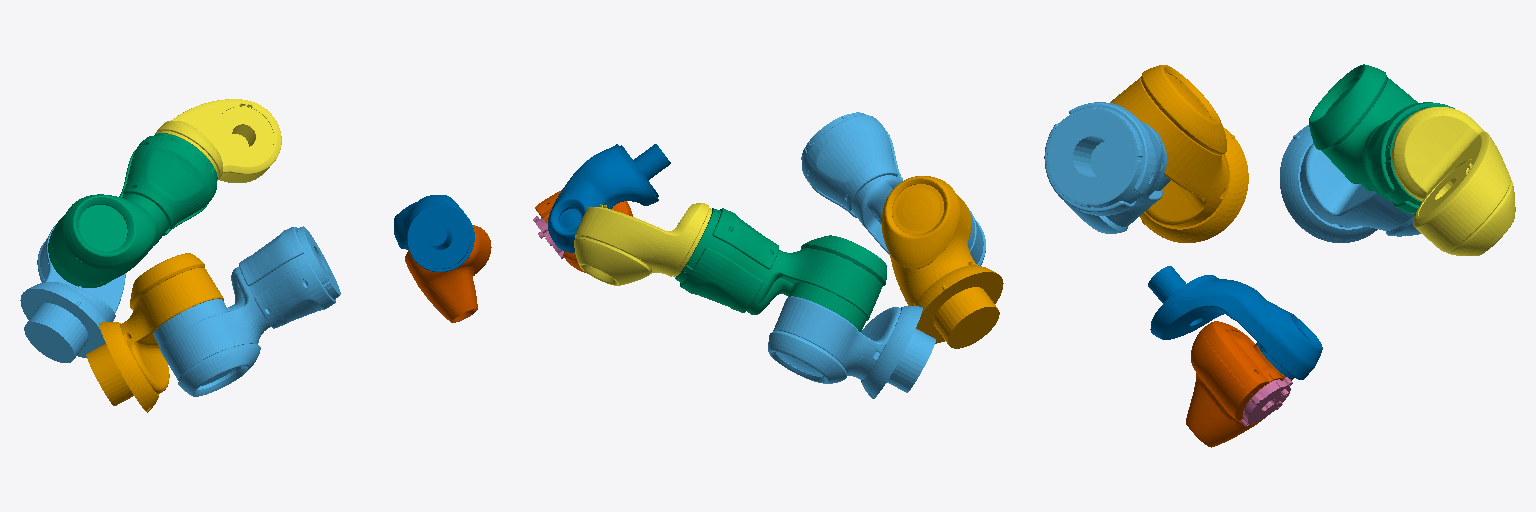
URDF robot description (IRB14000_Yumi):
<?xml version="1.0" ?>
<robot name="IRB14000_Yumi">

<link name="base_link">
  <inertial>
    <origin xyz="-0.1806083300371626 -3.533146342719389e-05 0.16501432096968796" rpy="0 0 0"/>
    <mass value="355.07112469493865"/>
    <inertia ixx="13.237211" iyy="14.852513" izz="6.557715" ixy="-0.00171" iyz="-0.012269" ixz="-0.102455"/>
  </inertial>
  <visual>
    <origin xyz="0 0 0" rpy="0 0 0"/>
    <geometry>
      <mesh filename="meshes/base_link.stl" scale="0.001 0.001 0.001"/>
    </geometry>
  </visual>
  <collision>
    <origin xyz="0 0 0" rpy="0 0 0"/>
    <geometry>
      <mesh filename="meshes/base_link.stl" scale="0.001 0.001 0.001"/>
    </geometry>
  </collision>
</link>

<link name="IRB14000_Link1_L_v1_1">
  <inertial>
    <origin xyz="0.04073333496198922 0.040935345541061985 0.015261260614221506" rpy="0 0 0"/>
    <mass value="7.563188104200824"/>
    <inertia ixx="0.019728" iyy="0.015934" izz="0.025359" ixy="-0.007851" iyz="-0.004141" ixz="-0.002338"/>
  </inertial>
  <visual>
    <origin xyz="-0.051106 -0.071479 -0.413506" rpy="0 0 0"/>
    <geometry>
      <mesh filename="meshes/IRB14000_Link1_L_v1_1.stl" scale="0.001 0.001 0.001"/>
    </geometry>
  </visual>
  <collision>
    <origin xyz="-0.051106 -0.071479 -0.413506" rpy="0 0 0"/>
    <geometry>
      <mesh filename="meshes/IRB14000_Link1_L_v1_1.stl" scale="0.001 0.001 0.001"/>
    </geometry>
  </collision>
</link>

<link name="IRB14000_Link2_L_v1_1">
  <inertial>
    <origin xyz="0.0596729752148423 -0.007882861134115904 0.03919033075530104" rpy="0 0 0"/>
    <mass value="11.070799725042463"/>
    <inertia ixx="0.020709" iyy="0.051591" izz="0.055916" ixy="-0.013939" iyz="-0.002565" ixz="-0.007311"/>
  </inertial>
  <visual>
    <origin xyz="-0.119234 -0.133836 -0.46976" rpy="0 0 0"/>
    <geometry>
      <mesh filename="meshes/IRB14000_Link2_L_v1_1.stl" scale="0.001 0.001 0.001"/>
    </geometry>
  </visual>
  <collision>
    <origin xyz="-0.119234 -0.133836 -0.46976" rpy="0 0 0"/>
    <geometry>
      <mesh filename="meshes/IRB14000_Link2_L_v1_1.stl" scale="0.001 0.001 0.001"/>
    </geometry>
  </collision>
</link>

<link name="IRB14000_Link3_L_v1_1">
  <inertial>
    <origin xyz="0.05564804075747504 0.023708363033178914 -0.0061156014923368085" rpy="0 0 0"/>
    <mass value="5.579966748579002"/>
    <inertia ixx="0.006105" iyy="0.013925" izz="0.014722" ixy="-0.002356" iyz="-0.000158" ixz="0.001632"/>
  </inertial>
  <visual>
    <origin xyz="-0.275739 -0.165887 -0.543198" rpy="0 0 0"/>
    <geometry>
      <mesh filename="meshes/IRB14000_Link3_L_v1_1.stl" scale="0.001 0.001 0.001"/>
    </geometry>
  </visual>
  <collision>
    <origin xyz="-0.275739 -0.165887 -0.543198" rpy="0 0 0"/>
    <geometry>
      <mesh filename="meshes/IRB14000_Link3_L_v1_1.stl" scale="0.001 0.001 0.001"/>
    </geometry>
  </collision>
</link>

<link name="IRB14000_Link4_L_v1_1">
  <inertial>
    <origin xyz="0.04754075136522001 -0.04572861064128683 -0.0007970276750837169" rpy="0 0 0"/>
    <mass value="9.26921603729842"/>
    <inertia ixx="0.022095" iyy="0.039944" izz="0.03382" ixy="0.008099" iyz="-0.005273" ixz="0.013896"/>
  </inertial>
  <visual>
    <origin xyz="-0.364071 -0.175484 -0.550654" rpy="0 0 0"/>
    <geometry>
      <mesh filename="meshes/IRB14000_Link4_L_v1_1.stl" scale="0.001 0.001 0.001"/>
    </geometry>
  </visual>
  <collision>
    <origin xyz="-0.364071 -0.175484 -0.550654" rpy="0 0 0"/>
    <geometry>
      <mesh filename="meshes/IRB14000_Link4_L_v1_1.stl" scale="0.001 0.001 0.001"/>
    </geometry>
  </collision>
</link>

<link name="IRB14000_Link5_L_v1_1">
  <inertial>
    <origin xyz="0.023112773812127285 -0.011245840587332231 -0.04761625259631325" rpy="0 0 0"/>
    <mass value="2.695952167724137"/>
    <inertia ixx="0.005888" iyy="0.006149" izz="0.002687" ixy="0.000386" iyz="-0.001411" ixz="0.001593"/>
  </inertial>
  <visual>
    <origin xyz="-0.489888 -0.079615 -0.488717" rpy="0 0 0"/>
    <geometry>
      <mesh filename="meshes/IRB14000_Link5_L_v1_1.stl" scale="0.001 0.001 0.001"/>
    </geometry>
  </visual>
  <collision>
    <origin xyz="-0.489888 -0.079615 -0.488717" rpy="0 0 0"/>
    <geometry>
      <mesh filename="meshes/IRB14000_Link5_L_v1_1.stl" scale="0.001 0.001 0.001"/>
    </geometry>
  </collision>
</link>

<link name="IRB14000_Link6_L_v1_1">
  <inertial>
    <origin xyz="-0.004491641394148149 -0.031703355476269665 0.05361645129751996" rpy="0 0 0"/>
    <mass value="3.922596322846886"/>
    <inertia ixx="0.004497" iyy="0.003956" izz="0.004715" ixy="-0.000211" iyz="6.9e-05" ixz="6e-06"/>
  </inertial>
  <visual>
    <origin xyz="-0.53039 -0.042127 -0.388389" rpy="0 0 0"/>
    <geometry>
      <mesh filename="meshes/IRB14000_Link6_L_v1_1.stl" scale="0.001 0.001 0.001"/>
    </geometry>
  </visual>
  <collision>
    <origin xyz="-0.53039 -0.042127 -0.388389" rpy="0 0 0"/>
    <geometry>
      <mesh filename="meshes/IRB14000_Link6_L_v1_1.stl" scale="0.001 0.001 0.001"/>
    </geometry>
  </collision>
</link>

<link name="IRB14000_Link7_L_v1_1">
  <inertial>
    <origin xyz="0.000296172055413102 -0.00016299707911343673 -0.00037255473372488357" rpy="0 0 0"/>
    <mass value="0.2428975269458689"/>
    <inertia ixx="6.2e-05" iyy="6.2e-05" izz="6.1e-05" ixy="-4e-06" iyz="4e-06" ixz="-3e-06"/>
  </inertial>
  <visual>
    <origin xyz="-0.561519 -0.001956 -0.421181" rpy="0 0 0"/>
    <geometry>
      <mesh filename="meshes/IRB14000_Link7_L_v1_1.stl" scale="0.001 0.001 0.001"/>
    </geometry>
  </visual>
  <collision>
    <origin xyz="-0.561519 -0.001956 -0.421181" rpy="0 0 0"/>
    <geometry>
      <mesh filename="meshes/IRB14000_Link7_L_v1_1.stl" scale="0.001 0.001 0.001"/>
    </geometry>
  </collision>
</link>

<link name="IRB14000_Link1_R_v1_1">
  <inertial>
    <origin xyz="0.03590191959142361 -0.008981490316361349 0.04687920510382226" rpy="0 0 0"/>
    <mass value="7.562885252614281"/>
    <inertia ixx="0.021585" iyy="0.02592" izz="0.01351" ixy="0.000943" iyz="0.003096" ixz="-0.00752"/>
  </inertial>
  <visual>
    <origin xyz="-0.051106 0.071479 -0.413506" rpy="0 0 0"/>
    <geometry>
      <mesh filename="meshes/IRB14000_Link1_R_v1_1.stl" scale="0.001 0.001 0.001"/>
    </geometry>
  </visual>
  <collision>
    <origin xyz="-0.051106 0.071479 -0.413506" rpy="0 0 0"/>
    <geometry>
      <mesh filename="meshes/IRB14000_Link1_R_v1_1.stl" scale="0.001 0.001 0.001"/>
    </geometry>
  </collision>
</link>

<link name="IRB14000_Link2_R_v1_1">
  <inertial>
    <origin xyz="0.06524866774564085 -0.029020496675266974 0.0026699058149302624" rpy="0 0 0"/>
    <mass value="11.070765671821388"/>
    <inertia ixx="0.024291" iyy="0.057295" izz="0.046631" ixy="0.001655" iyz="0.000696" ixz="-0.018332"/>
  </inertial>
  <visual>
    <origin xyz="-0.116778 0.117581 -0.485846" rpy="0 0 0"/>
    <geometry>
      <mesh filename="meshes/IRB14000_Link2_R_v1_1.stl" scale="0.001 0.001 0.001"/>
    </geometry>
  </visual>
  <collision>
    <origin xyz="-0.116778 0.117581 -0.485846" rpy="0 0 0"/>
    <geometry>
      <mesh filename="meshes/IRB14000_Link2_R_v1_1.stl" scale="0.001 0.001 0.001"/>
    </geometry>
  </collision>
</link>

<link name="IRB14000_Link3_R_v1_1">
  <inertial>
    <origin xyz="0.04932288762147974 0.014265009766034759 0.031259105192174896" rpy="0 0 0"/>
    <mass value="5.642166932410237"/>
    <inertia ixx="0.007831" iyy="0.014639" izz="0.013502" ixy="-0.002779" iyz="-0.000627" ixz="-0.003572"/>
  </inertial>
  <visual>
    <origin xyz="-0.275393 0.165741 -0.542998" rpy="0 0 0"/>
    <geometry>
      <mesh filename="meshes/IRB14000_Link3_R_v1_1.stl" scale="0.001 0.001 0.001"/>
    </geometry>
  </visual>
  <collision>
    <origin xyz="-0.275393 0.165741 -0.542998" rpy="0 0 0"/>
    <geometry>
      <mesh filename="meshes/IRB14000_Link3_R_v1_1.stl" scale="0.001 0.001 0.001"/>
    </geometry>
  </collision>
</link>

<link name="IRB14000_Link4_R_v1_1">
  <inertial>
    <origin xyz="0.053239045077053626 0.008013758257861936 -0.0381220463896732" rpy="0 0 0"/>
    <mass value="9.26921058726044"/>
    <inertia ixx="0.024669" iyy="0.029392" izz="0.041799" ixy="-0.015818" iyz="0.004083" ixz="0.004859"/>
  </inertial>
  <visual>
    <origin xyz="-0.361722 0.159937 -0.566041" rpy="0 0 0"/>
    <geometry>
      <mesh filename="meshes/IRB14000_Link4_R_v1_1.stl" scale="0.001 0.001 0.001"/>
    </geometry>
  </visual>
  <collision>
    <origin xyz="-0.361722 0.159937 -0.566041" rpy="0 0 0"/>
    <geometry>
      <mesh filename="meshes/IRB14000_Link4_R_v1_1.stl" scale="0.001 0.001 0.001"/>
    </geometry>
  </collision>
</link>

<link name="IRB14000_Link5_R_v1_1">
  <inertial>
    <origin xyz="0.017171119832822934 0.050571865014873506 -0.008697816332257802" rpy="0 0 0"/>
    <mass value="2.6959496517667163"/>
    <inertia ixx="0.006237" iyy="0.002281" izz="0.006205" ixy="-0.00125" iyz="0.001275" ixz="0.000181"/>
  </inertial>
  <visual>
    <origin xyz="-0.489888 0.079615 -0.488717" rpy="0 0 0"/>
    <geometry>
      <mesh filename="meshes/IRB14000_Link5_R_v1_1.stl" scale="0.001 0.001 0.001"/>
    </geometry>
  </visual>
  <collision>
    <origin xyz="-0.489888 0.079615 -0.488717" rpy="0 0 0"/>
    <geometry>
      <mesh filename="meshes/IRB14000_Link5_R_v1_1.stl" scale="0.001 0.001 0.001"/>
    </geometry>
  </collision>
</link>

<link name="IRB14000_Link6_R_v1_1">
  <inertial>
    <origin xyz="0.006161361129946474 -0.03880483959457281 -0.01616135981646699" rpy="0 0 0"/>
    <mass value="3.922618516662671"/>
    <inertia ixx="0.004551" iyy="0.004709" izz="0.003908" ixy="-2.4e-05" iyz="-0.000104" ixz="-0.000109"/>
  </inertial>
  <visual>
    <origin xyz="-0.522382 -0.010877 -0.440844" rpy="0 0 0"/>
    <geometry>
      <mesh filename="meshes/IRB14000_Link6_R_v1_1.stl" scale="0.001 0.001 0.001"/>
    </geometry>
  </visual>
  <collision>
    <origin xyz="-0.522382 -0.010877 -0.440844" rpy="0 0 0"/>
    <geometry>
      <mesh filename="meshes/IRB14000_Link6_R_v1_1.stl" scale="0.001 0.001 0.001"/>
    </geometry>
  </collision>
</link>

<link name="IRB14000_Link7_R_v1_1">
  <inertial>
    <origin xyz="-0.0003231019871375862 -0.0002513424439419265 0.00039272650313054713" rpy="0 0 0"/>
    <mass value="0.3271520076893722"/>
    <inertia ixx="8.2e-05" iyy="8.2e-05" izz="8.1e-05" ixy="8e-06" iyz="-8e-06" ixz="-7e-06"/>
  </inertial>
  <visual>
    <origin xyz="-0.561519 0.001956 -0.421181" rpy="0 0 0"/>
    <geometry>
      <mesh filename="meshes/IRB14000_Link7_R_v1_1.stl" scale="0.001 0.001 0.001"/>
    </geometry>
  </visual>
  <collision>
    <origin xyz="-0.561519 0.001956 -0.421181" rpy="0 0 0"/>
    <geometry>
      <mesh filename="meshes/IRB14000_Link7_R_v1_1.stl" scale="0.001 0.001 0.001"/>
    </geometry>
  </collision>
</link>

<joint name="j1_left" type="continuous">
  <origin xyz="0.051106 0.071479 0.413506" rpy="0 0 0"/>
  <parent link="base_link"/>
  <child link="IRB14000_Link1_L_v1_1"/>
  <axis xyz="0.813798 0.34202 0.469846"/>
</joint>

<joint name="j2_left" type="continuous">
  <origin xyz="0.068128 0.062357 0.056254" rpy="0 0 0"/>
  <parent link="IRB14000_Link1_L_v1_1"/>
  <child link="IRB14000_Link2_L_v1_1"/>
  <axis xyz="0.106778 0.706717 -0.699392"/>
</joint>

<joint name="j3_left" type="continuous">
  <origin xyz="0.156505 0.032051 0.073438" rpy="0 0 0"/>
  <parent link="IRB14000_Link2_L_v1_1"/>
  <child link="IRB14000_Link3_L_v1_1"/>
  <axis xyz="0.813798 0.34202 0.469846"/>
</joint>

<joint name="j4_left" type="continuous">
  <origin xyz="0.088332 0.009597 0.007456" rpy="0 0 0"/>
  <parent link="IRB14000_Link3_L_v1_1"/>
  <child link="IRB14000_Link4_L_v1_1"/>
  <axis xyz="-0.106778 -0.706717 0.699392"/>
</joint>

<joint name="j5_left" type="continuous">
  <origin xyz="0.125817 -0.095869 -0.061937" rpy="0 0 0"/>
  <parent link="IRB14000_Link4_L_v1_1"/>
  <child link="IRB14000_Link5_L_v1_1"/>
  <axis xyz="-0.571255 0.619333 0.538605"/>
</joint>

<joint name="j6_left" type="continuous">
  <origin xyz="0.040502 -0.037488 -0.100328" rpy="0 0 0"/>
  <parent link="IRB14000_Link5_L_v1_1"/>
  <child link="IRB14000_Link6_L_v1_1"/>
  <axis xyz="0.106778 0.706717 -0.699392"/>
</joint>

<joint name="j7_left" type="continuous">
  <origin xyz="0.031129 -0.040171 0.032792" rpy="0 0 0"/>
  <parent link="IRB14000_Link6_L_v1_1"/>
  <child link="IRB14000_Link7_L_v1_1"/>
  <axis xyz="-0.571255 0.619333 0.538605"/>
</joint>

<joint name="j1_right" type="continuous">
  <origin xyz="0.051106 -0.071479 0.413506" rpy="0 0 0"/>
  <parent link="base_link"/>
  <child link="IRB14000_Link1_R_v1_1"/>
  <axis xyz="0.813798 -0.34202 0.469846"/>
</joint>

<joint name="j2_right" type="continuous">
  <origin xyz="0.065672 -0.046102 0.07234" rpy="0 0 0"/>
  <parent link="IRB14000_Link1_R_v1_1"/>
  <child link="IRB14000_Link2_R_v1_1"/>
  <axis xyz="0.106778 -0.706717 -0.699392"/>
</joint>

<joint name="j3_right" type="continuous">
  <origin xyz="0.158615 -0.04816 0.057152" rpy="0 0 0"/>
  <parent link="IRB14000_Link2_R_v1_1"/>
  <child link="IRB14000_Link3_R_v1_1"/>
  <axis xyz="-0.813798 0.34202 -0.469846"/>
</joint>

<joint name="j4_right" type="continuous">
  <origin xyz="0.086329 0.005804 0.023043" rpy="0 0 0"/>
  <parent link="IRB14000_Link3_R_v1_1"/>
  <child link="IRB14000_Link4_R_v1_1"/>
  <axis xyz="0.106778 -0.706717 -0.699392"/>
</joint>

<joint name="j5_right" type="continuous">
  <origin xyz="0.128166 0.080322 -0.077324" rpy="0 0 0"/>
  <parent link="IRB14000_Link4_R_v1_1"/>
  <child link="IRB14000_Link5_R_v1_1"/>
  <axis xyz="-0.571255 -0.619333 0.538605"/>
</joint>

<joint name="j6_right" type="continuous">
  <origin xyz="0.032494 0.090492 -0.047873" rpy="0 0 0"/>
  <parent link="IRB14000_Link5_R_v1_1"/>
  <child link="IRB14000_Link6_R_v1_1"/>
  <axis xyz="-0.106778 0.706717 0.699392"/>
</joint>

<joint name="j7_right" type="continuous">
  <origin xyz="0.039137 -0.012833 -0.019663" rpy="0 0 0"/>
  <parent link="IRB14000_Link6_R_v1_1"/>
  <child link="IRB14000_Link7_R_v1_1"/>
  <axis xyz="-0.571255 -0.619333 0.538605"/>
</joint>

</robot>

--- Render facts (derived) ---
The picture shows the robot from 3 angles, left to right: view 1: azimuth 30°, elevation 25°; view 2: azimuth 150°, elevation 25°; view 3: azimuth 270°, elevation 25°; orthographic projection.
Robot: IRB14000_Yumi — 15 links, 14 joints (14 continuous); root link base_link; default pose: all joints at 0.
Visible links, largest first — view 1: IRB14000_Link2_R_v1_1, IRB14000_Link2_L_v1_1, IRB14000_Link1_R_v1_1, IRB14000_Link1_L_v1_1, IRB14000_Link3_L_v1_1, IRB14000_Link5_R_v1_1, IRB14000_Link6_R_v1_1; view 2: IRB14000_Link2_L_v1_1, IRB14000_Link1_R_v1_1, IRB14000_Link1_L_v1_1, IRB14000_Link2_R_v1_1, IRB14000_Link3_L_v1_1, IRB14000_Link5_R_v1_1, IRB14000_Link6_R_v1_1; view 3: IRB14000_Link1_R_v1_1, IRB14000_Link3_L_v1_1, IRB14000_Link2_R_v1_1, IRB14000_Link2_L_v1_1, IRB14000_Link5_R_v1_1, IRB14000_Link1_L_v1_1, IRB14000_Link6_R_v1_1, IRB14000_Link7_R_v1_1.
Link boxes in pixels (x1,y1,x2,y2): IRB14000_Link2_R_v1_1: (153, 226, 340, 396); IRB14000_Link2_L_v1_1: (48, 133, 217, 287); IRB14000_Link1_R_v1_1: (86, 253, 223, 412); IRB14000_Link1_L_v1_1: (20, 225, 125, 362); IRB14000_Link3_L_v1_1: (155, 99, 281, 182); IRB14000_Link5_R_v1_1: (394, 195, 474, 271); IRB14000_Link6_R_v1_1: (405, 225, 491, 322); IRB14000_Link2_L_v1_1: (675, 208, 886, 331); IRB14000_Link1_R_v1_1: (882, 176, 1003, 348); IRB14000_Link1_L_v1_1: (768, 296, 935, 398); IRB14000_Link2_R_v1_1: (801, 112, 985, 265); IRB14000_Link3_L_v1_1: (574, 203, 711, 285); IRB14000_Link5_R_v1_1: (548, 144, 670, 252); IRB14000_Link6_R_v1_1: (535, 189, 632, 273); IRB14000_Link1_R_v1_1: (1110, 65, 1248, 242); IRB14000_Link3_L_v1_1: (1392, 107, 1515, 255); IRB14000_Link2_R_v1_1: (1044, 102, 1170, 233); IRB14000_Link2_L_v1_1: (1309, 64, 1454, 214); IRB14000_Link5_R_v1_1: (1148, 266, 1322, 379); IRB14000_Link1_L_v1_1: (1280, 125, 1420, 242); IRB14000_Link6_R_v1_1: (1186, 321, 1291, 447); IRB14000_Link7_R_v1_1: (1241, 377, 1292, 426).
Size in the robot's own frame: 0.5882 by 0.4543 by 0.2371 metres.
Meshes: 15 distinct files referenced, 8 mesh visuals loaded (8 binary STL); not drawn: 7 (reference not matched to a file when rendering).